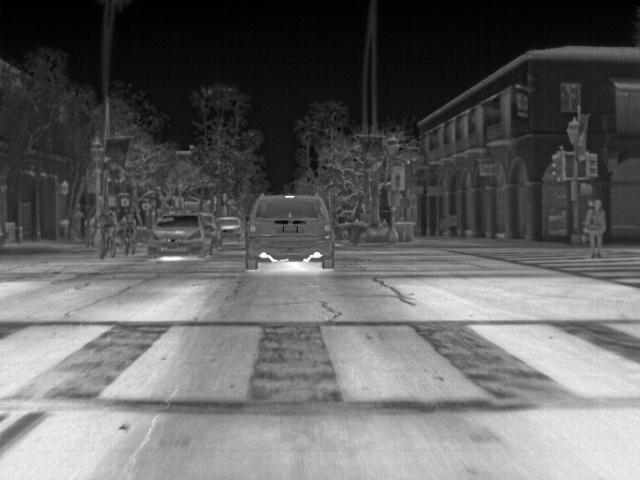car: (240, 191, 336, 272), (146, 211, 205, 259), (197, 210, 223, 253), (217, 217, 245, 242)
person: (582, 197, 609, 257), (90, 204, 118, 244), (121, 207, 137, 242)
